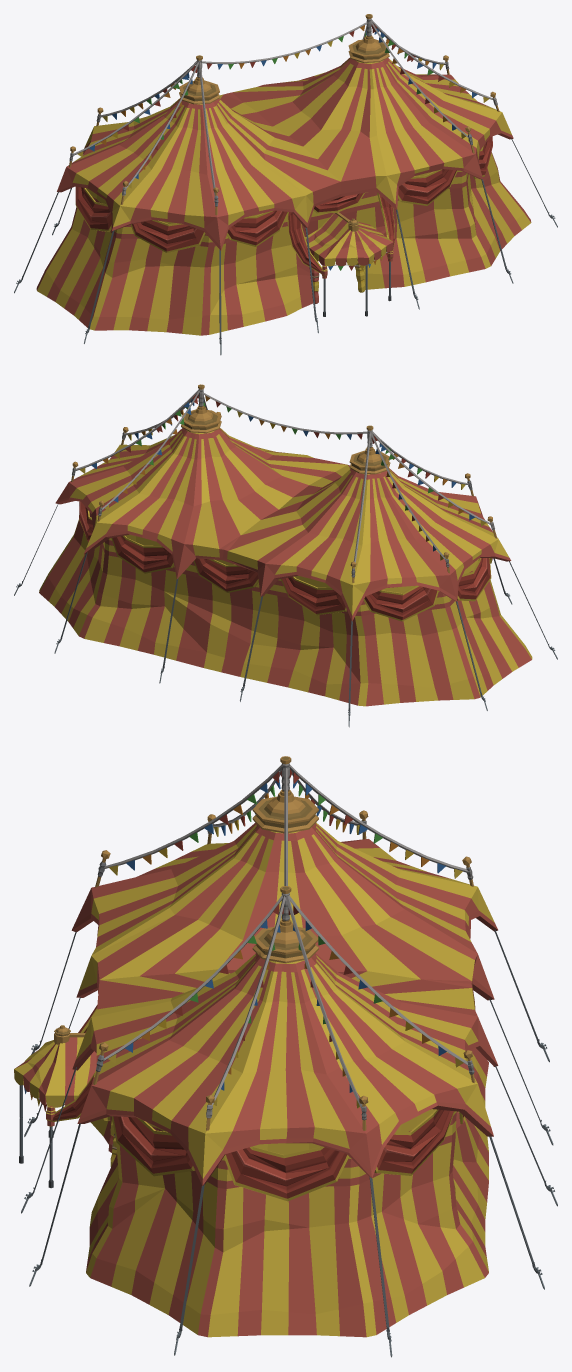
File: SM_Prop_Tent_Large_01.fbx
3 views of the same model, one above another, from view 1: azimuth 30°, elevation 25°; view 2: azimuth 150°, elevation 25°; view 3: azimuth 270°, elevation 25° (orthographic). The views are drawn at different scales.
Visible parts, largest first — view 1: SM_Prop_Tent_Large_01; view 2: SM_Prop_Tent_Large_01; view 3: SM_Prop_Tent_Large_01.
Part boxes in pixels (bbox=[...]): SM_Prop_Tent_Large_01: bbox=[14, 14, 557, 355]; SM_Prop_Tent_Large_01: bbox=[14, 384, 557, 727]; SM_Prop_Tent_Large_01: bbox=[14, 756, 557, 1357].
Size of the model in its own units: 2659 by 1209 by 1678.
